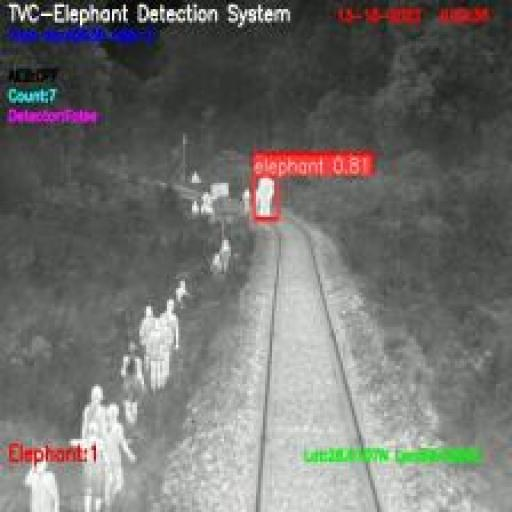Elephant: (254, 174, 278, 219)
